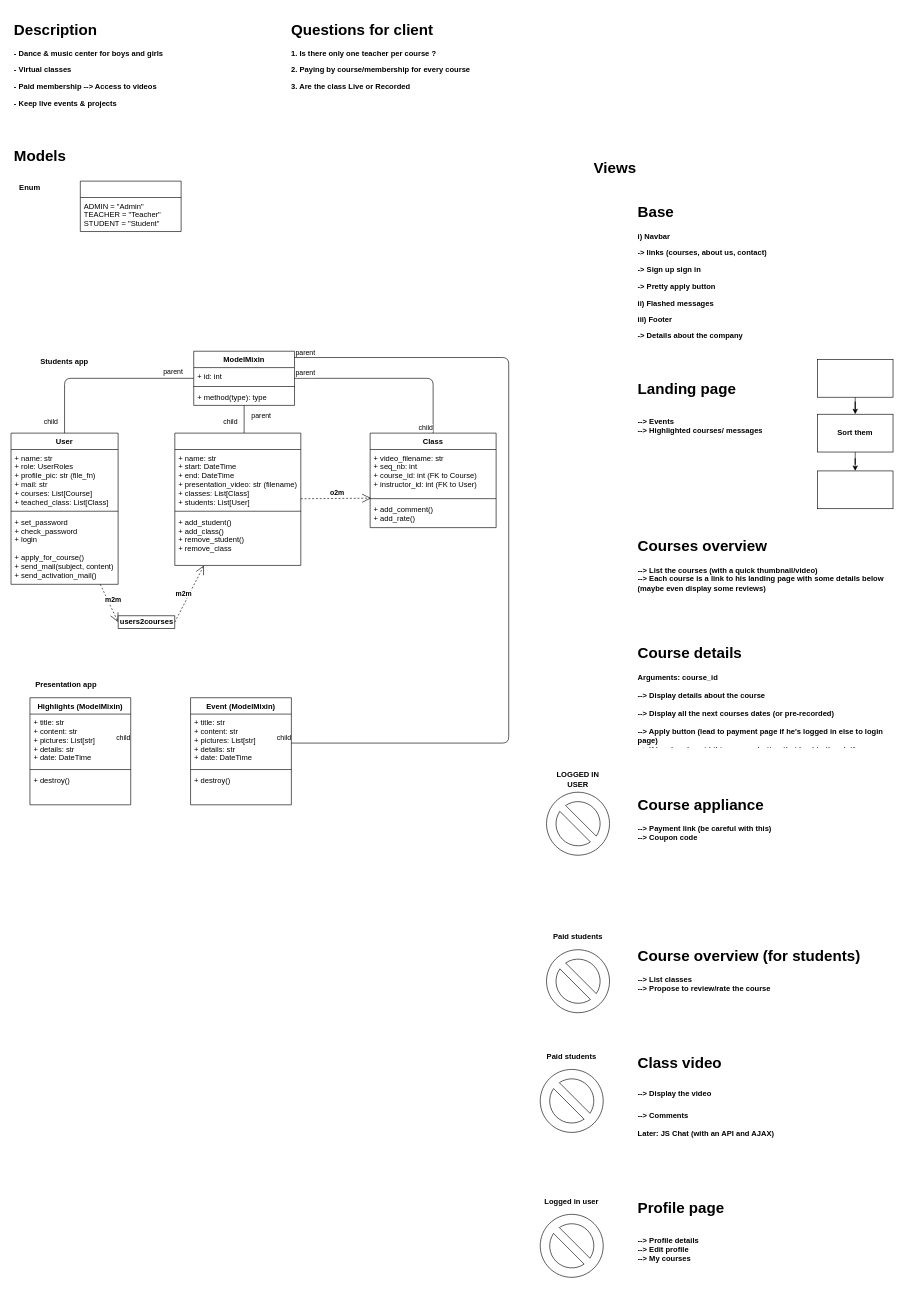
Image size: 910x1300. Some labels were removed from this diagram. Each missing label, with the box of its shape:
Course: (174, 432, 301, 565)
Display only the first 10..: (817, 470, 893, 509)
Retrieve events: (817, 359, 893, 397)
UserRoles (Enum): (80, 180, 181, 232)
